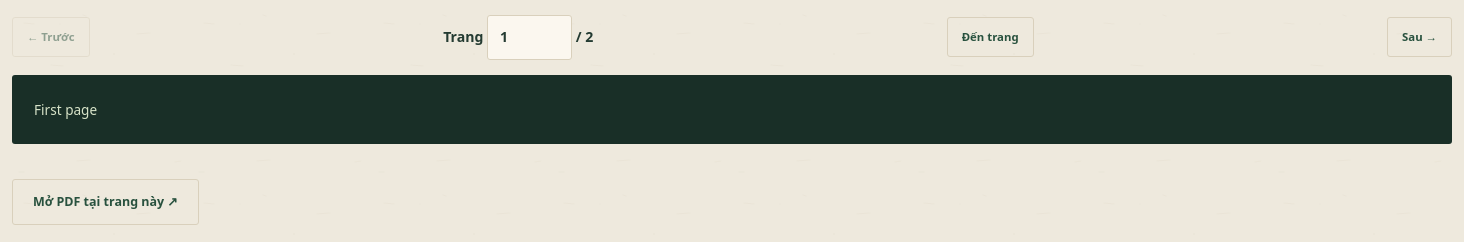
Test case: PDF text navigation keeps previous, next and direct page controls
Expected: the text "First page" is shown, [12,74,1452,144]
Click the button "Sau →" at {"x": 1420, "y": 37}, box [1387,17,1452,57]
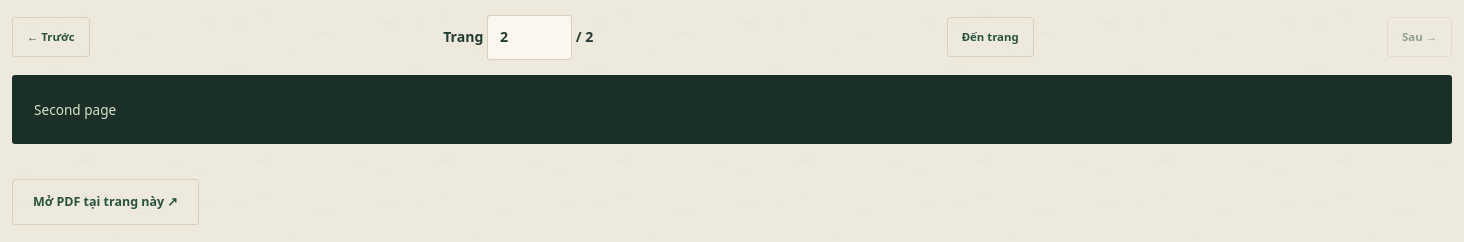
Expected: the text "Second page" is shown, [12,74,1452,144]
Replace the text in the number field labelled "Trang / 2" with "1" at {"x": 530, "y": 37}, box [487,15,572,60]
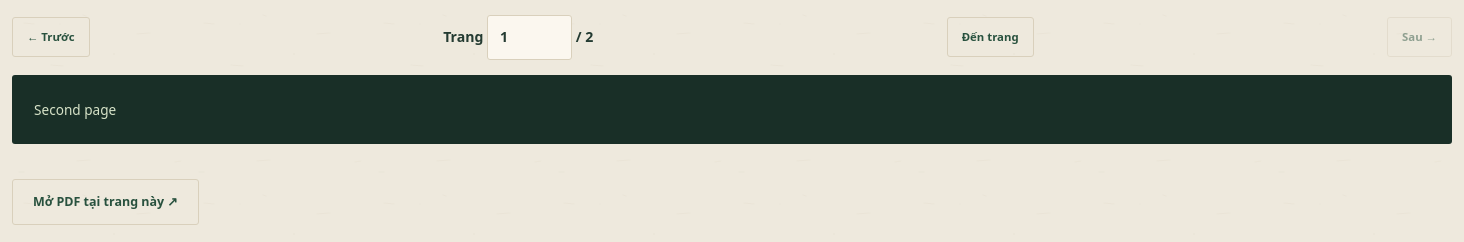
Click the button "Đến trang" at {"x": 990, "y": 37}, box [947,17,1034,57]
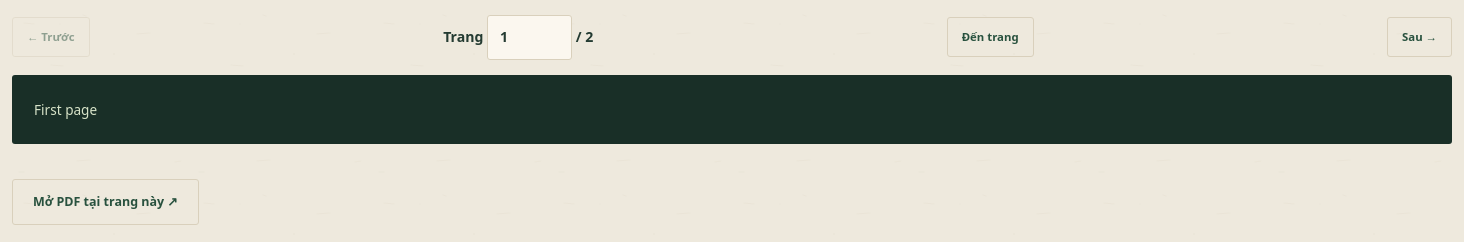
Expected: the text "First page" is shown, [12,74,1452,144]
